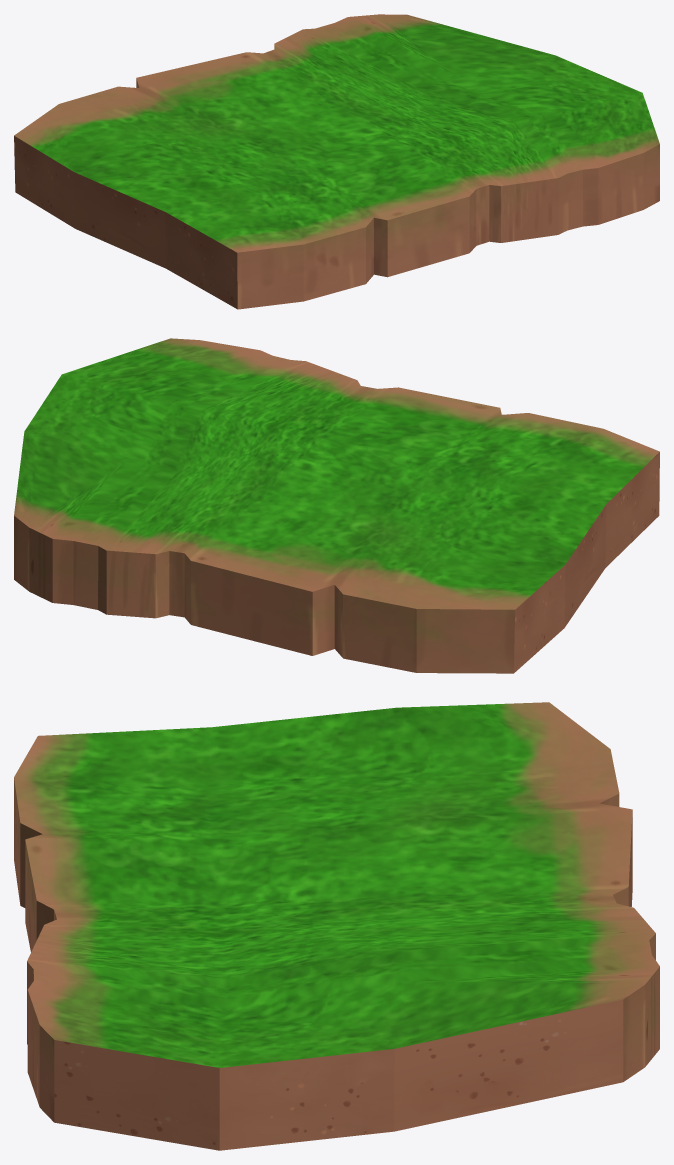
Rendered from ground_short03.fbx.
The picture shows the model from 3 angles, top to bottom: view 1: azimuth 30°, elevation 25°; view 2: azimuth 150°, elevation 25°; view 3: azimuth 270°, elevation 25°; orthographic projection. The views are drawn at different scales.
Visible parts, largest first — view 1: ground_short03; view 2: ground_short03; view 3: ground_short03.
Part boxes in pixels (x1,y1,x2,y2): ground_short03: [14, 14, 659, 309]; ground_short03: [14, 338, 659, 673]; ground_short03: [14, 702, 659, 1150].
Bounding box in the file's own units: 2.52 × 1.88 × 0.2664.
